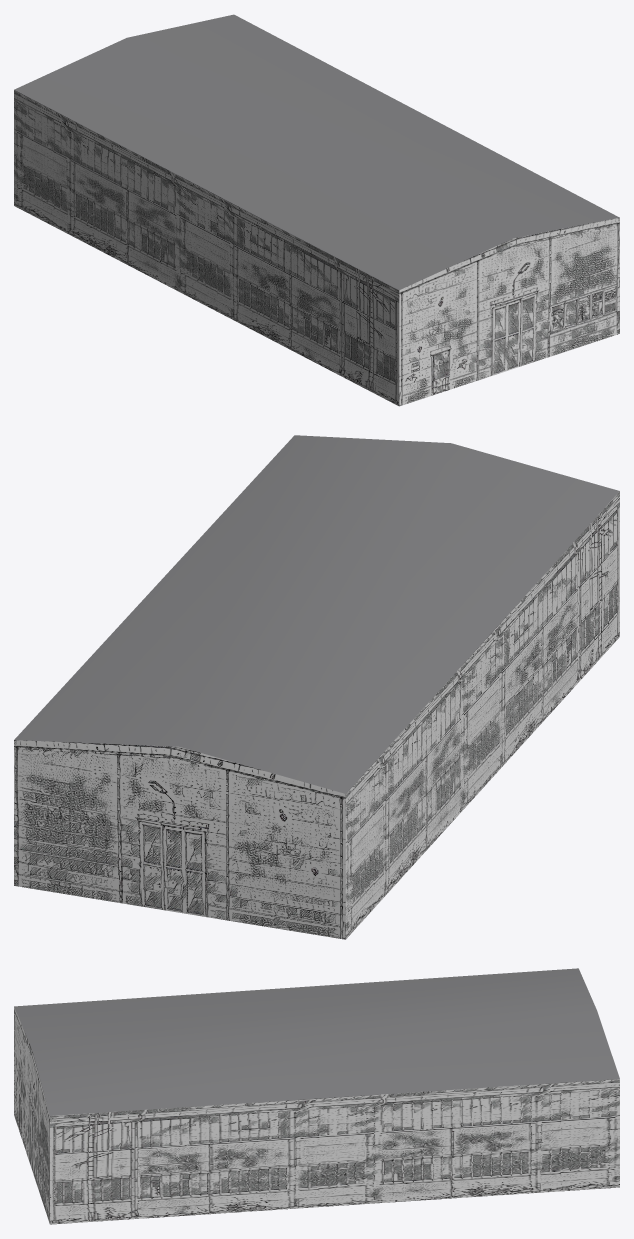
The model's file is VVT-Halle.gltf.
3 renders of one model, top to bottom at view 1: azimuth 30°, elevation 25°; view 2: azimuth 150°, elevation 25°; view 3: azimuth 270°, elevation 25°, orthographic. The views are drawn at different scales.
Visible parts, largest first — view 1: Dach.1; view 2: Dach.1; view 3: Dach.1.
Boxes of the visible parts, x1,y1,x2,y2 form: Dach.1: [14, 14, 619, 406]; Dach.1: [14, 435, 619, 939]; Dach.1: [14, 968, 619, 1224].
Size of the model in its own units: 27.39 by 10.6 by 47.52.
5 materials, 4 textured.
